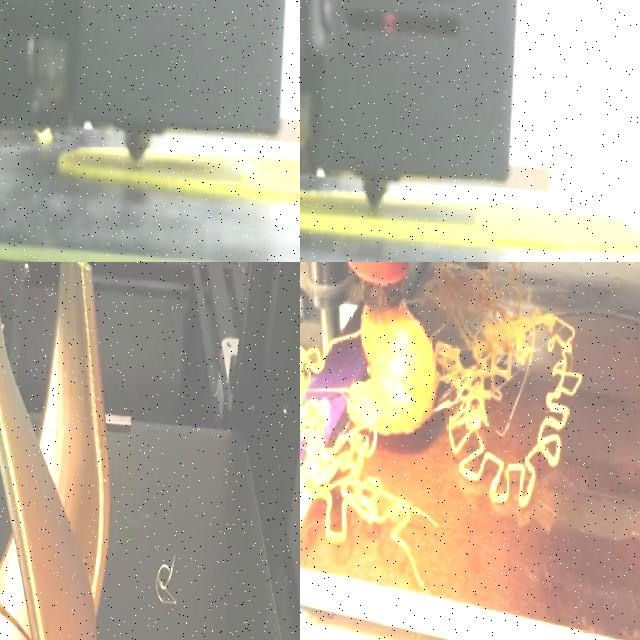spaghetti: (406, 262, 585, 511), (300, 333, 413, 547), (144, 542, 186, 624)
